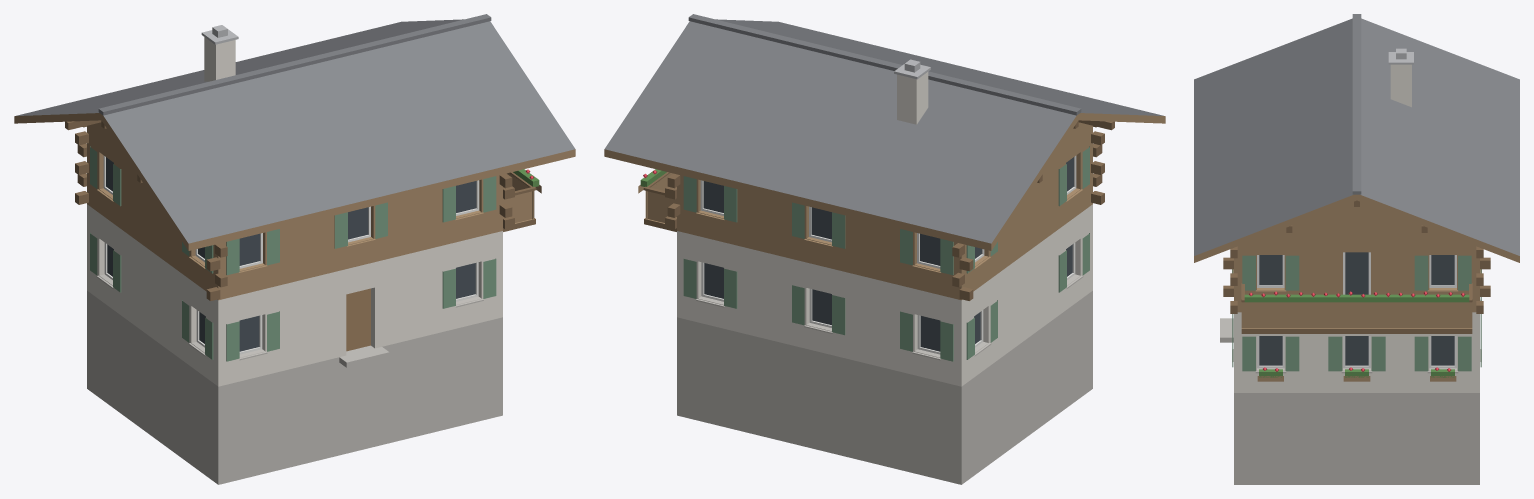
File: chalet_2_s.glb
The picture shows the model from 3 angles, left to right: view 1: azimuth 30°, elevation 25°; view 2: azimuth 150°, elevation 25°; view 3: azimuth 270°, elevation 25°; orthographic projection. The views are drawn at different scales.
Parts seen in each view (by area): view 1: chalet_2_s; view 2: chalet_2_s; view 3: chalet_2_s.
Part boxes in pixels (bbox=[...]): chalet_2_s: bbox=[14, 14, 575, 484]; chalet_2_s: bbox=[604, 14, 1165, 484]; chalet_2_s: bbox=[1194, 14, 1519, 484].
Bounding box in the file's own units: 13.64 × 12.4 × 10.6.
